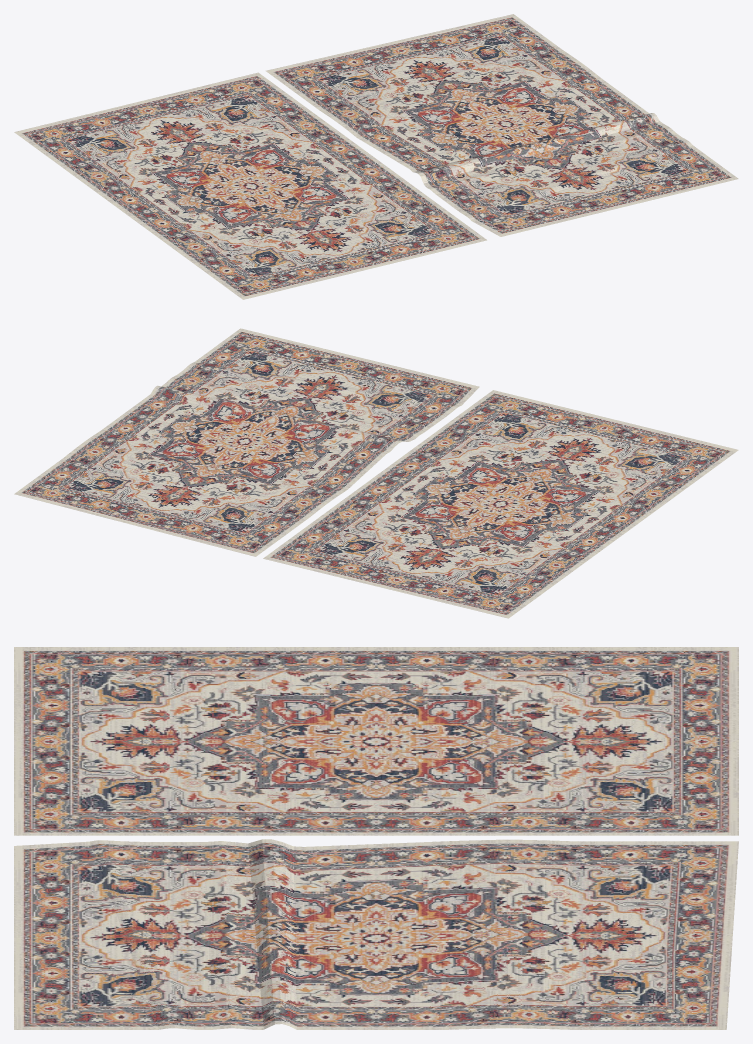
File: Carpet.fbx
3 renders of one model, top to bottom at view 1: azimuth 30°, elevation 25°; view 2: azimuth 150°, elevation 25°; view 3: azimuth 270°, elevation 25°, orthographic. The views are drawn at different scales.
Visible parts, largest first — view 1: Plane.010, Plane.011; view 2: Plane.010, Plane.011; view 3: Plane.010, Plane.011.
Part boxes in pixels (box(x1,y1,x2,y2)): Plane.010: box(14, 72, 486, 299); Plane.011: box(265, 14, 738, 236); Plane.010: box(263, 390, 738, 618); Plane.011: box(14, 328, 479, 556); Plane.010: box(14, 647, 738, 835); Plane.011: box(14, 839, 738, 1029).
Bounding box in the file's own units: 443 × 3.13 × 355.
